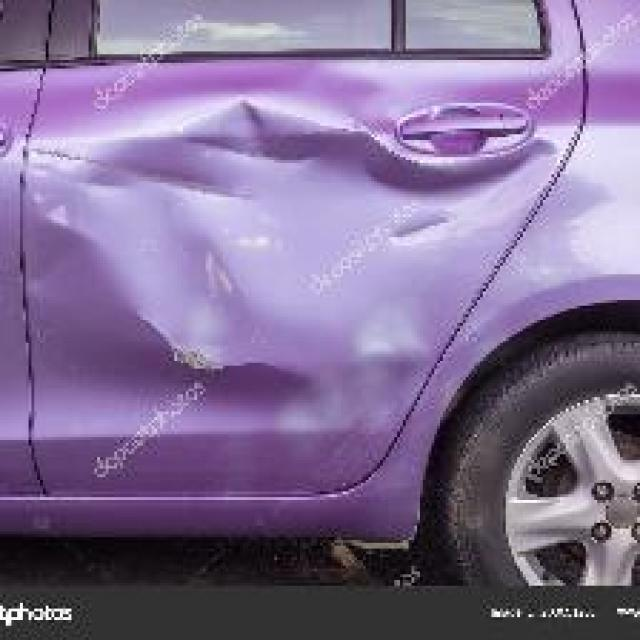damaged: (26, 100, 614, 434)
